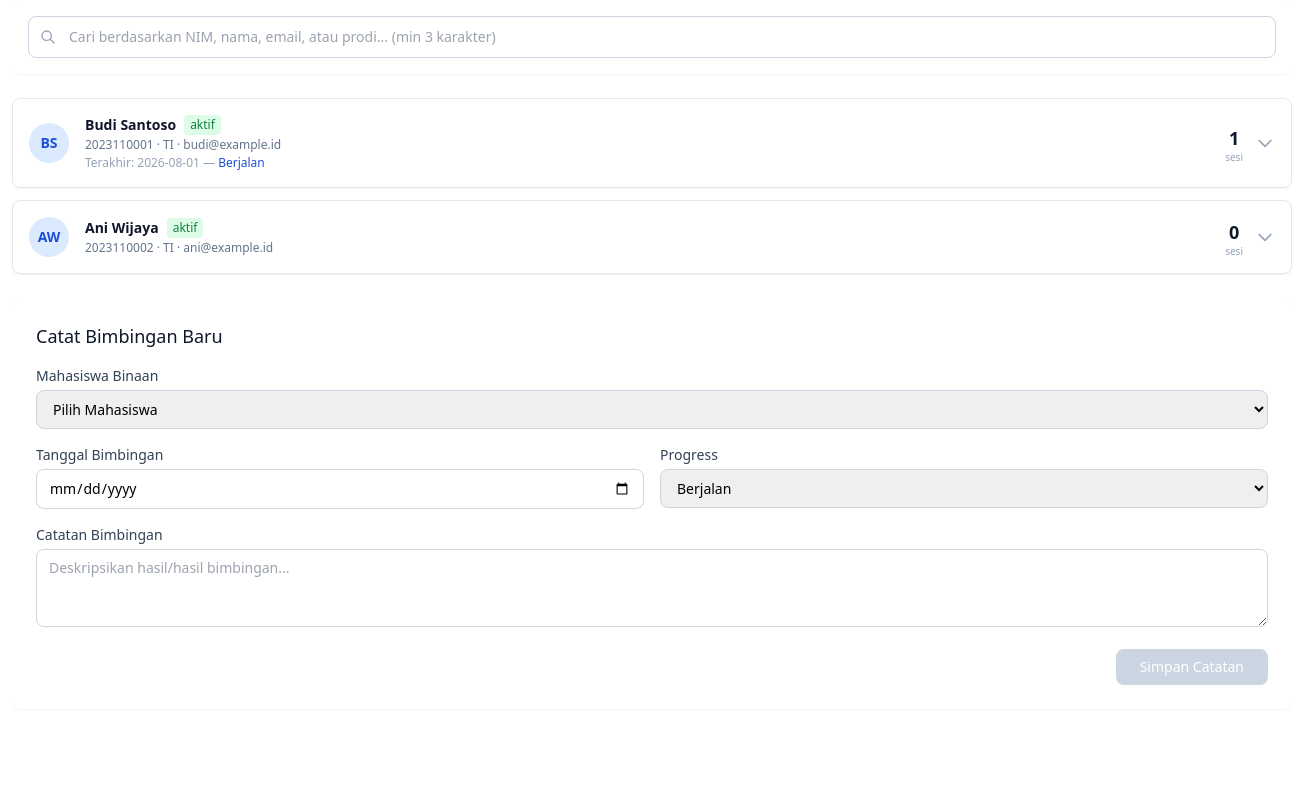
Test: DosenGuidance › collapse card — hide session detail
Expand then collapse
Click the heading "Budi Santoso": (131, 125) top-left (85, 115), bottom-right (176, 135)
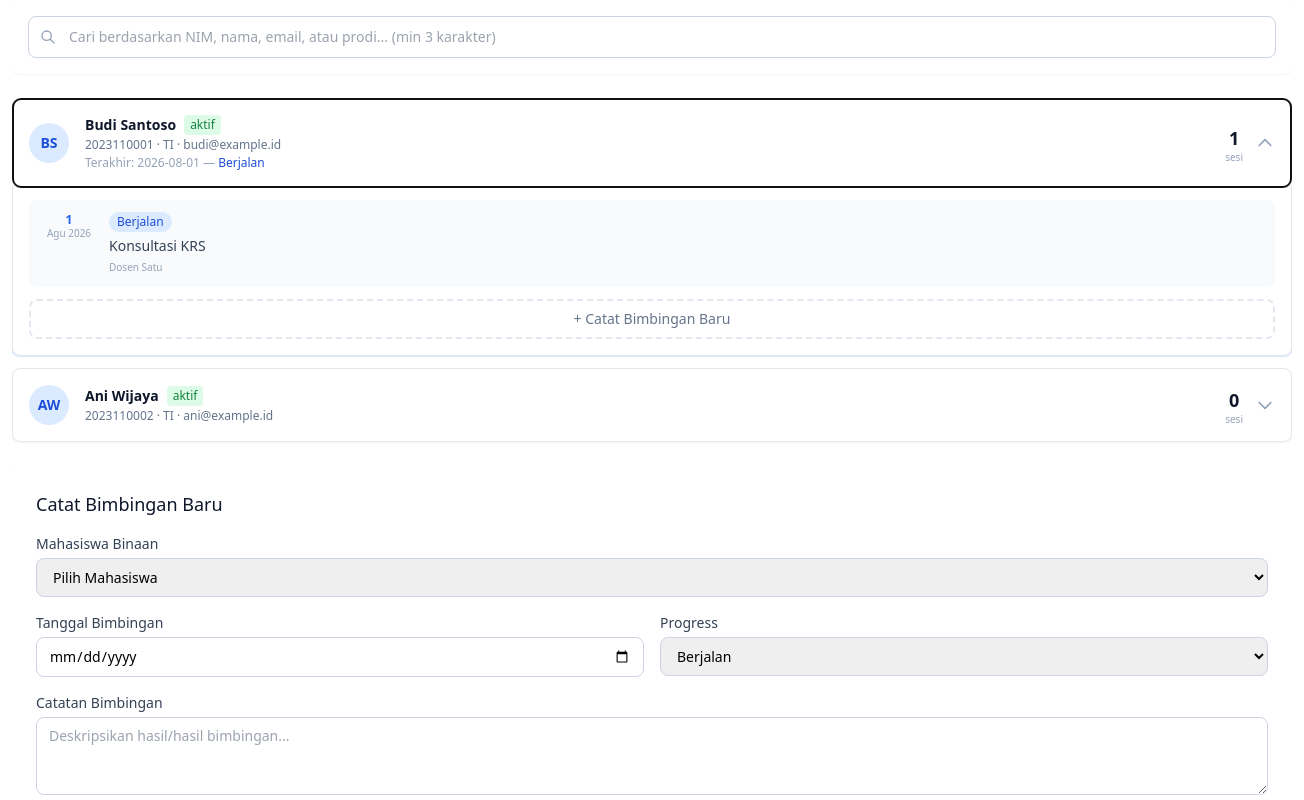
Now the text "Konsultasi KRS" is shown, box top-left (109, 236), bottom-right (206, 255)
Click the heading "Budi Santoso": (131, 125) top-left (85, 115), bottom-right (176, 135)
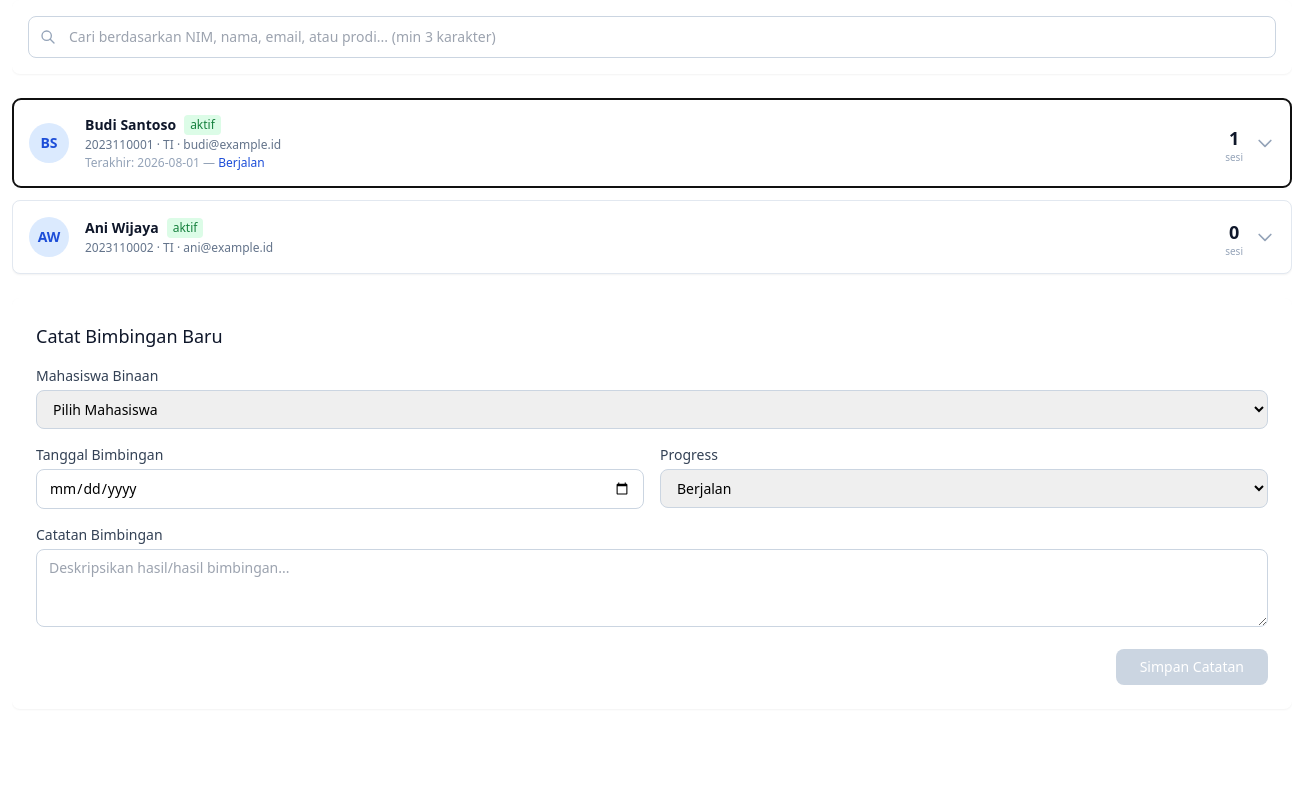
Now the text "Konsultasi KRS" is gone
